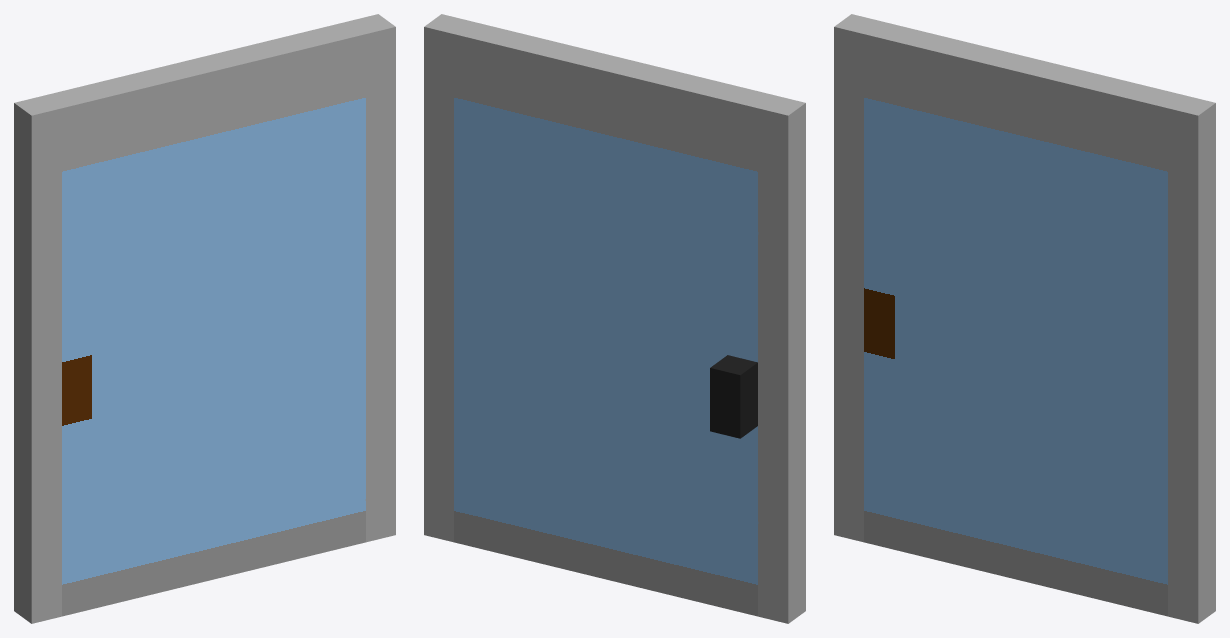
The model's file is obj_door3.fbx.
The picture shows the model from 3 angles, left to right: view 1: azimuth 30°, elevation 25°; view 2: azimuth 150°, elevation 25°; view 3: azimuth 330°, elevation 25°; orthographic projection.
Visible parts, largest first — view 1: obj_door3; view 2: obj_door3; view 3: obj_door3.
Boxes of the visible parts, bbox=[...] form: obj_door3: bbox=[14, 14, 395, 623]; obj_door3: bbox=[424, 14, 805, 623]; obj_door3: bbox=[834, 14, 1215, 623].
Bounding box in the file's own units: 1.2 × 0.2 × 1.6.
1 material, 1 textured.
